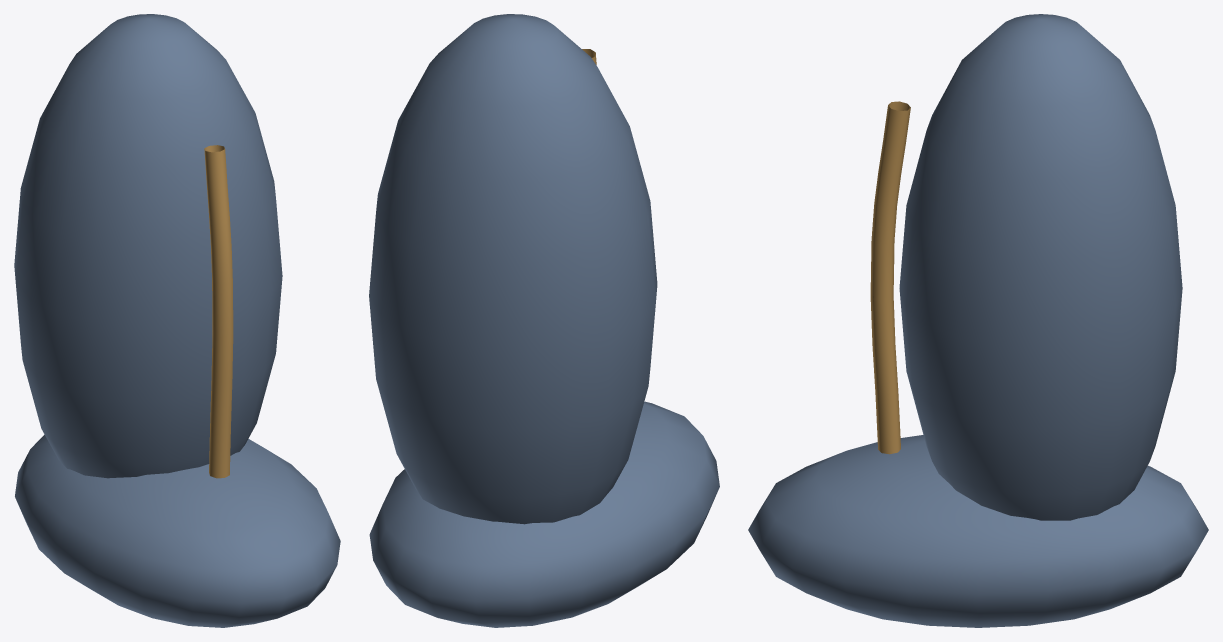
The model's file is ArmorLeg.fbx.
The picture shows the model from 3 angles, left to right: view 1: azimuth 30°, elevation 25°; view 2: azimuth 150°, elevation 25°; view 3: azimuth 270°, elevation 25°; orthographic projection. The views are drawn at different scales.
Visible parts, largest first — view 1: Greave_export, Sabatons_export, Greave ridge_export; view 2: Greave_export, Sabatons_export; view 3: Greave_export, Sabatons_export, Greave ridge_export.
Boxes of the visible parts, box(x1,y1,x2,y2) form: Greave_export: box(14, 14, 282, 478); Sabatons_export: box(15, 434, 340, 627); Greave ridge_export: box(204, 145, 233, 478); Greave_export: box(369, 14, 657, 524); Sabatons_export: box(369, 401, 719, 627); Greave_export: box(899, 14, 1182, 520); Sabatons_export: box(748, 435, 1208, 627); Greave ridge_export: box(870, 101, 910, 454).
Size of the model in its own units: 92 by 196 by 140.
